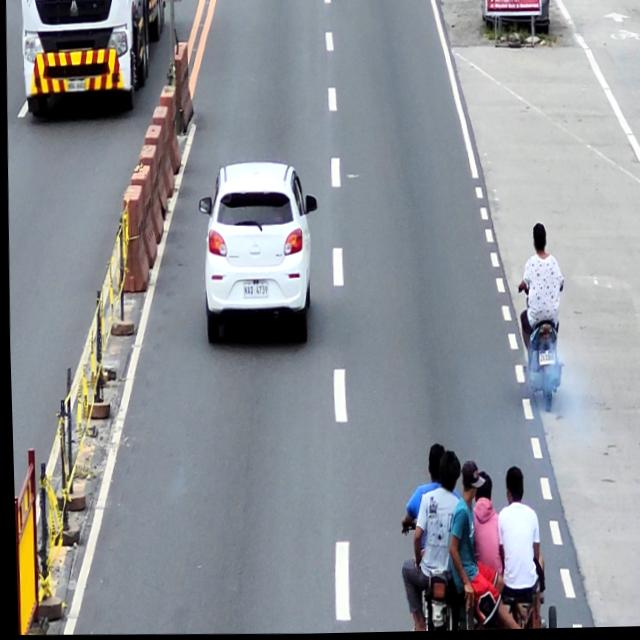Car: (194, 160, 319, 346)
License-Plate: (240, 282, 267, 299), (534, 353, 553, 368), (65, 80, 85, 92)
Motorcycle: (514, 284, 563, 414)
Tricycle: (399, 509, 556, 633)
Truck: (18, 0, 168, 124)
